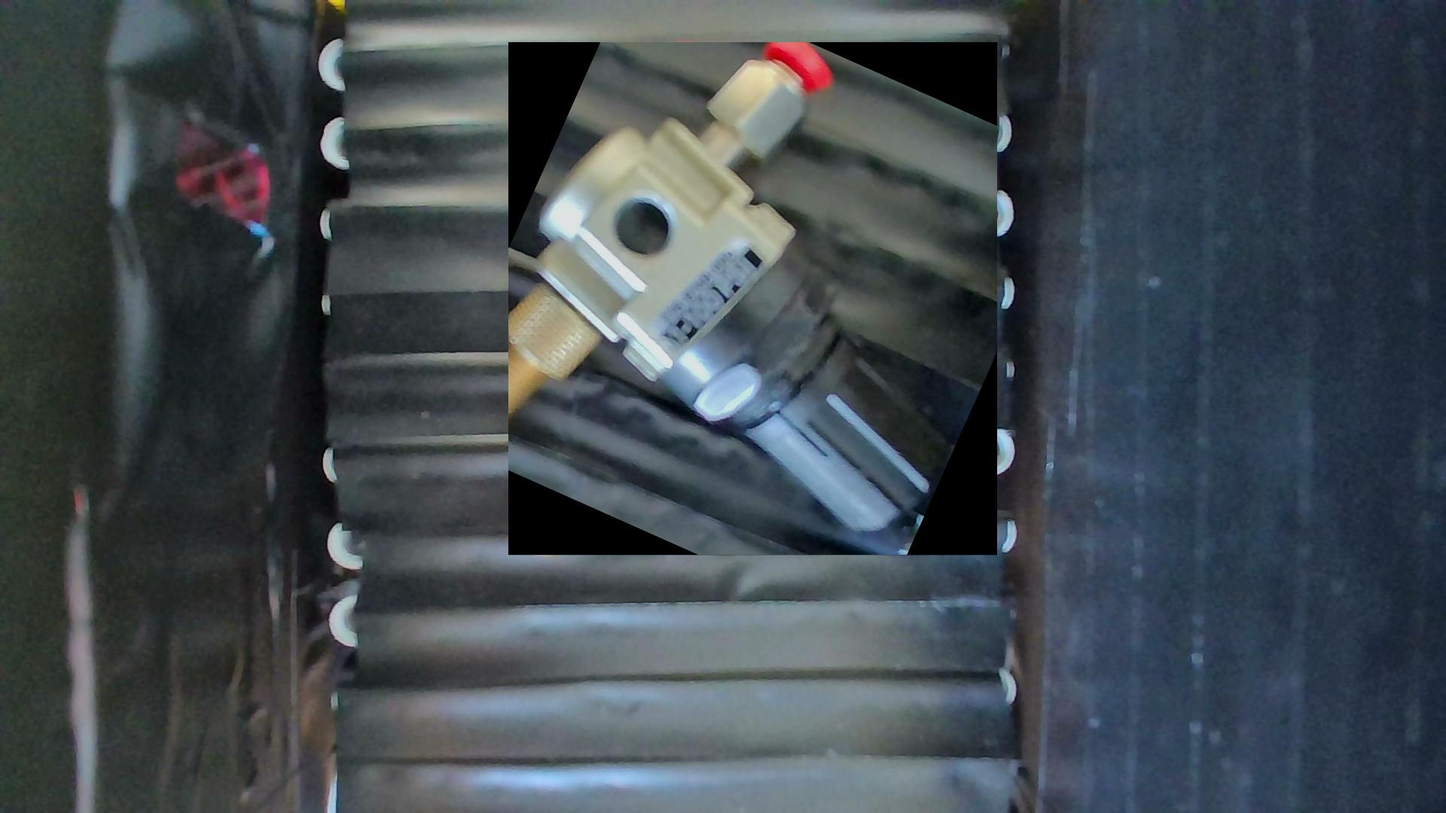regulator: (508, 43, 997, 556)
